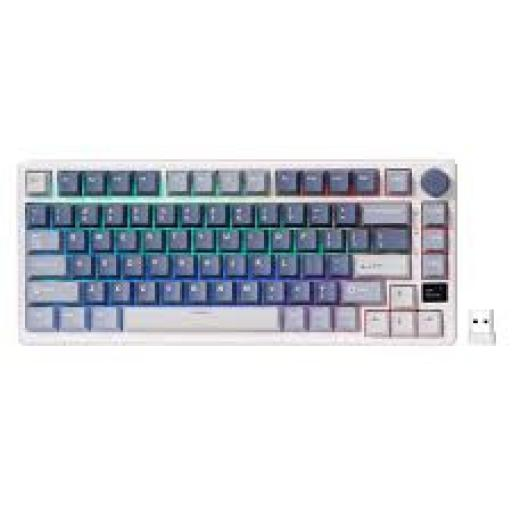keyboard: (18, 159, 455, 344)
